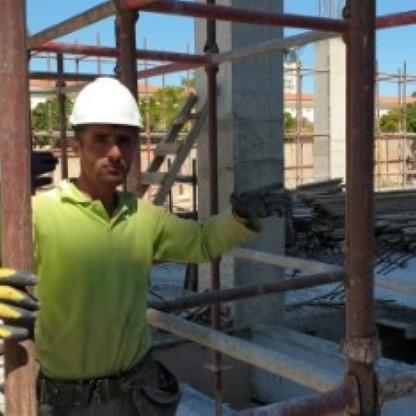helmet: (53, 65, 159, 196)
